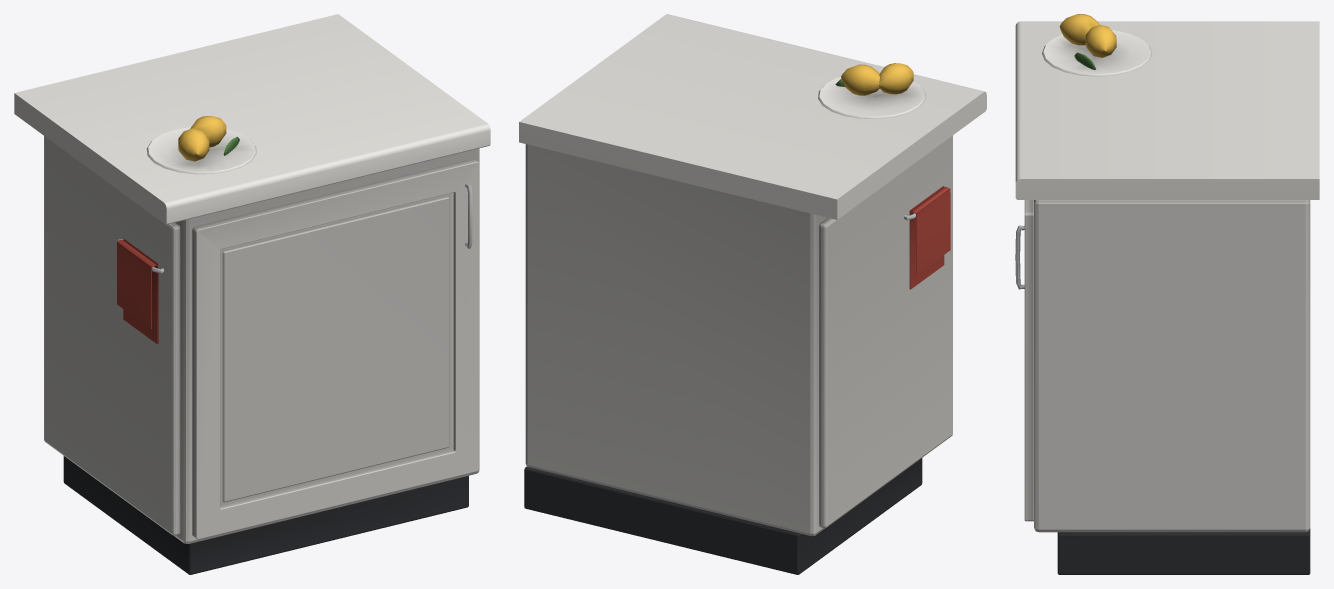
The model's file is counterCornerOuter.glb.
3 renders of one model, left to right at view 1: azimuth 30°, elevation 25°; view 2: azimuth 150°, elevation 25°; view 3: azimuth 270°, elevation 25°, orthographic.
Parts seen in each view (by area): view 1: body; view 2: body; view 3: body.
Boxes of the visible parts, x1,y1,x2,y2 form: body: [14, 14, 490, 574]; body: [519, 14, 986, 574]; body: [1015, 14, 1319, 574].
Size of the model in its own units: 0.81 by 1.04 by 0.6602.
